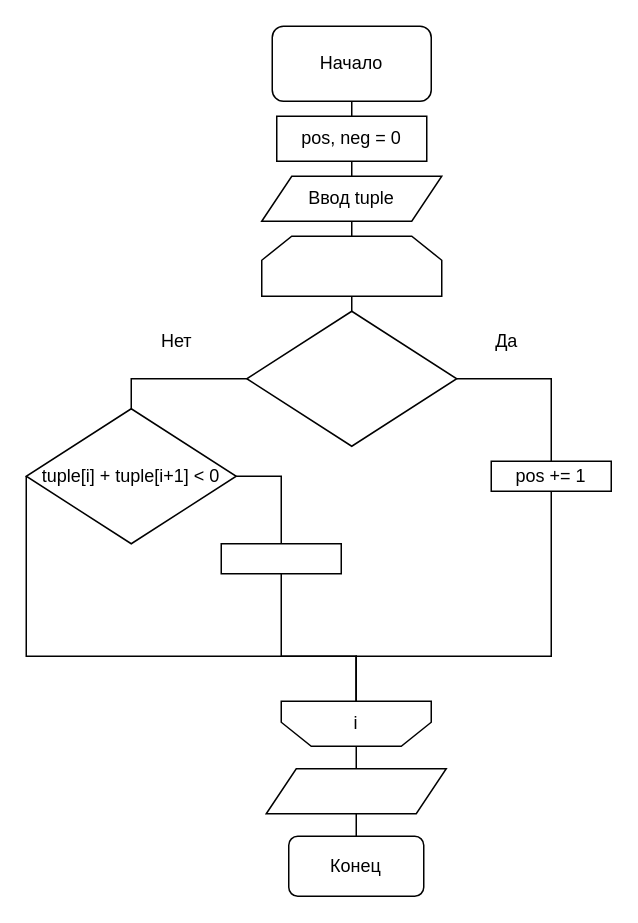
The diagram is 638 pixels wide and 923 high, and some of its shapes have lost their labels. Here are the shapes that lost their labels. From the top down, the centre of each, then its label:
At [351,265]: "i = 0, len(tuple) - 1".
At [351,378]: "tuple[i] + tuple[i+1] > 0".
At [280,558]: "neg += 1".
At [355,790]: "Вывод pos, neg".
